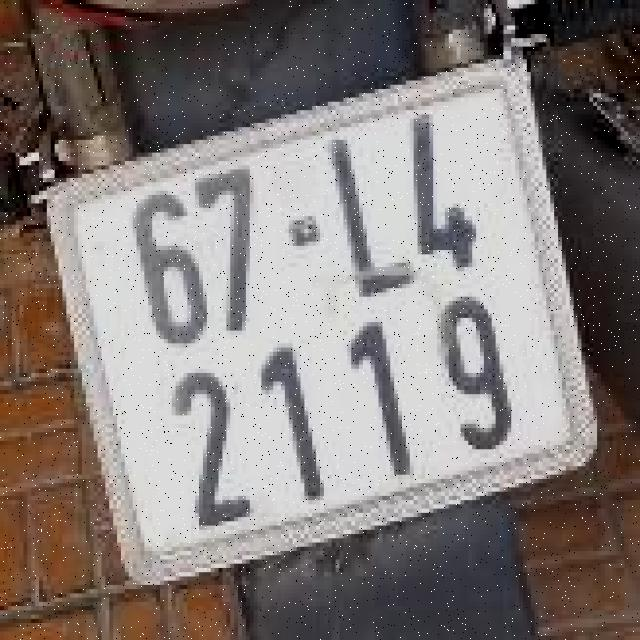1: (331, 306, 434, 493), (246, 332, 338, 512)
2: (153, 353, 267, 540)
4: (396, 97, 496, 284)
6: (119, 177, 218, 360)
7: (184, 159, 272, 346)
9: (420, 281, 529, 470)
L: (308, 120, 425, 311)
